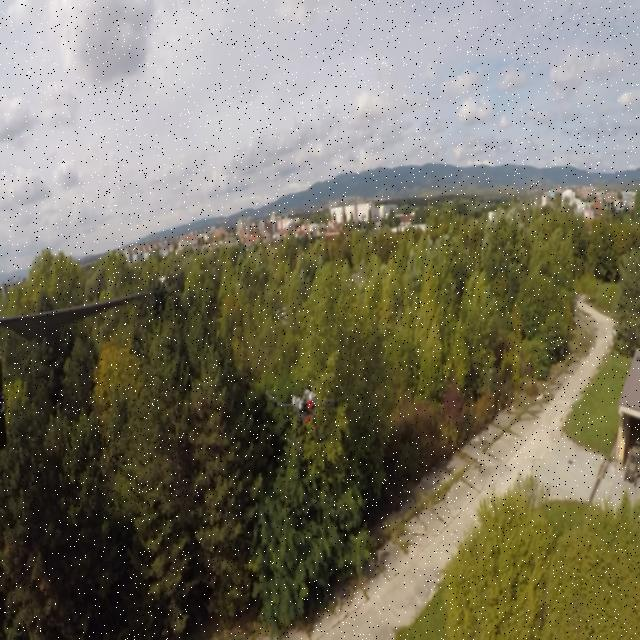UAV: (266, 380, 351, 458)
